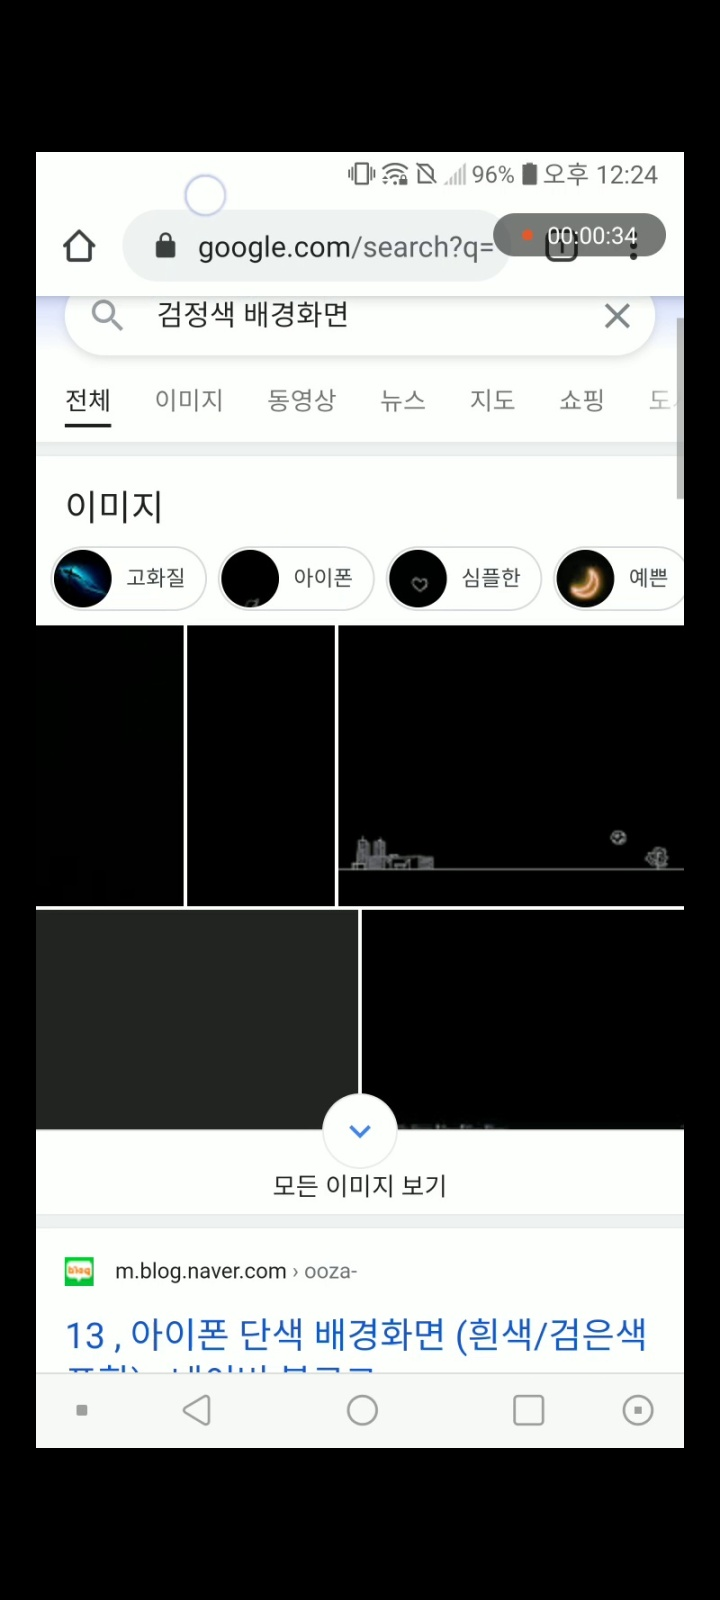Cursor: (184, 173, 229, 219)
